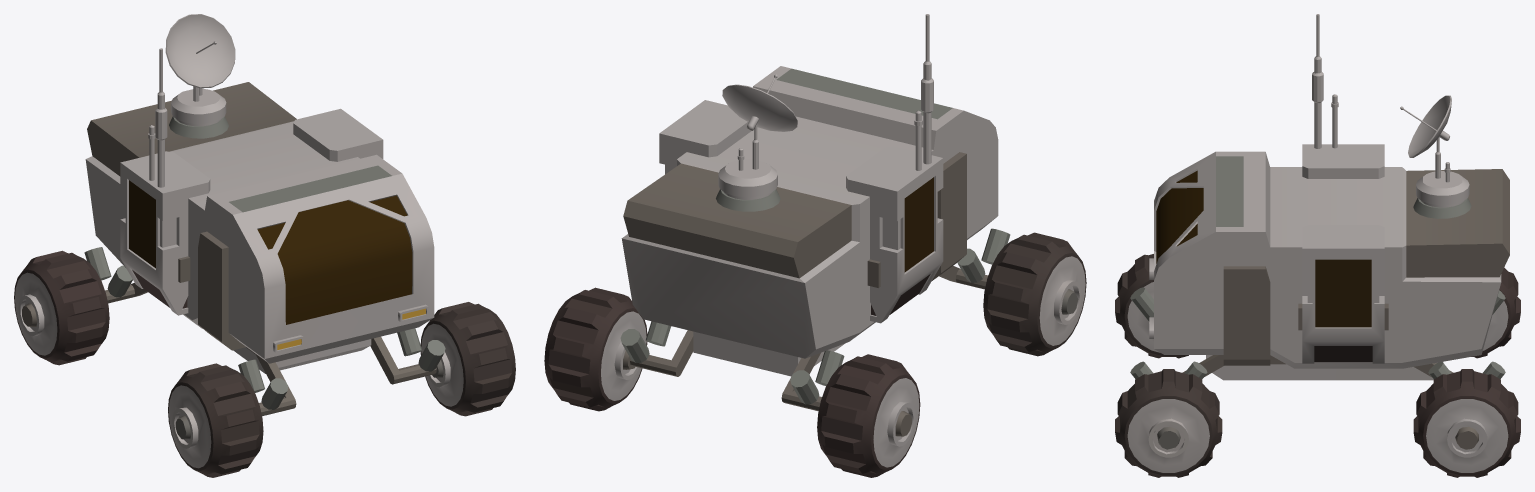
Rendered from rover1.glb.
3 renders of one model, left to right at view 1: azimuth 30°, elevation 25°; view 2: azimuth 150°, elevation 25°; view 3: azimuth 270°, elevation 25°, orthographic. The views are drawn at different scales.
Visible parts, largest first — view 1: Wheel_4.001; view 2: Wheel_4.001; view 3: Wheel_4.001.
Boxes of the visible parts, <box> form: Wheel_4.001: <box>14,14,515,477</box>; Wheel_4.001: <box>544,14,1086,477</box>; Wheel_4.001: <box>1115,14,1520,477</box>.
Size of the model in its own units: 4.58 by 4.88 by 5.16.
1 material, 1 textured.
